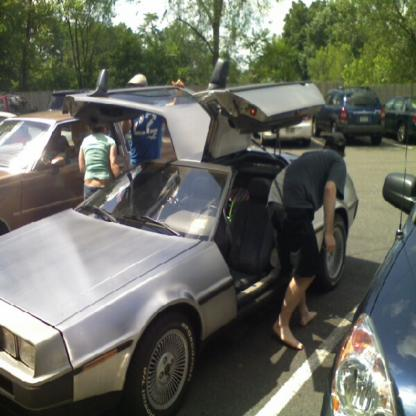Car: (0, 56, 415, 415), (322, 63, 416, 416)
